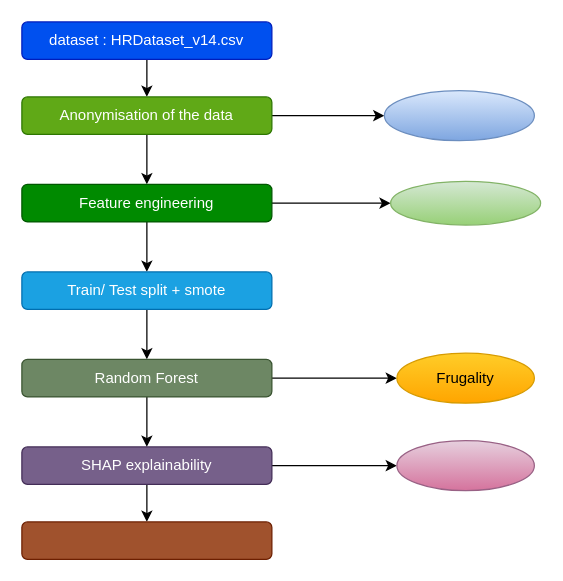
Image size: 563x581. Some labels were removed from this diagram. Each missing label, with the box of its shape:
cybersecurity: (383, 89, 534, 141)
Ethics: (389, 180, 541, 225)
Explainability: (396, 439, 534, 491)
HR Dashboard: (21, 521, 272, 559)
